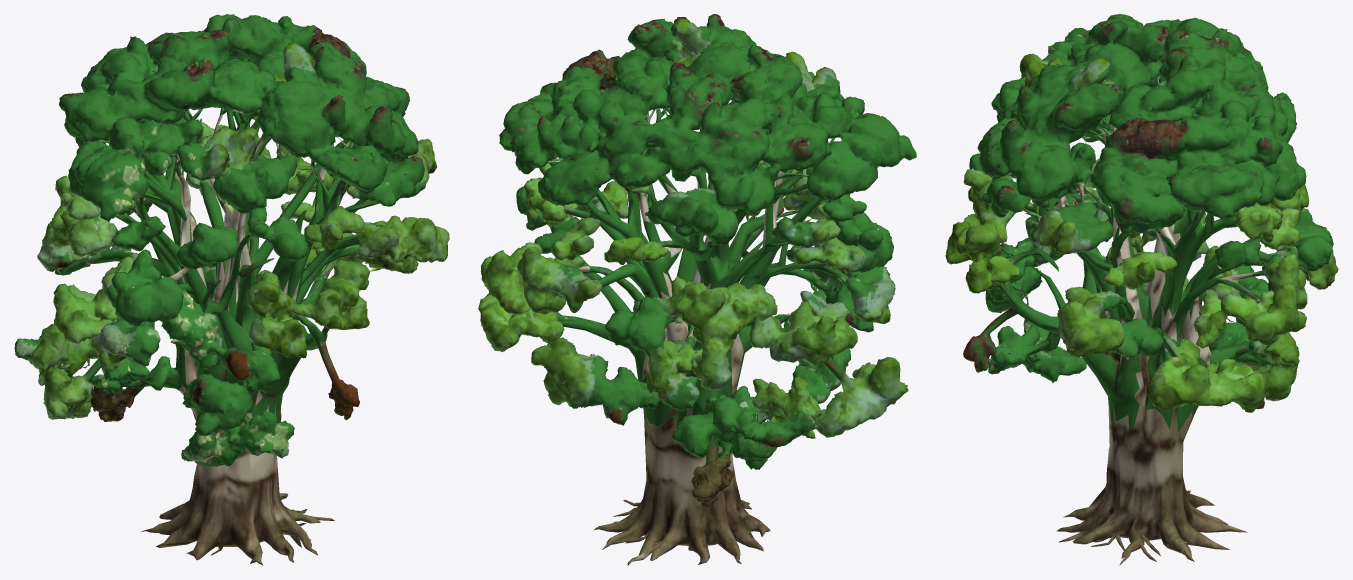
File: mottled-american-sycamore-r2_semantic.glb
3 views of the same model, side by side, from view 1: azimuth 30°, elevation 25°; view 2: azimuth 150°, elevation 25°; view 3: azimuth 270°, elevation 25° (orthographic). The views are drawn at different scales.
Visible parts, largest first — view 1: Mesh_0; view 2: Mesh_0; view 3: Mesh_0.
Part boxes in pixels (box(x1,y1,x2,y2)): Mesh_0: box(14, 14, 449, 565); Mesh_0: box(478, 14, 916, 565); Mesh_0: box(945, 14, 1338, 565).
Size of the model in its own units: 18 by 21.7 by 15.99.
2 materials, 2 textured.
